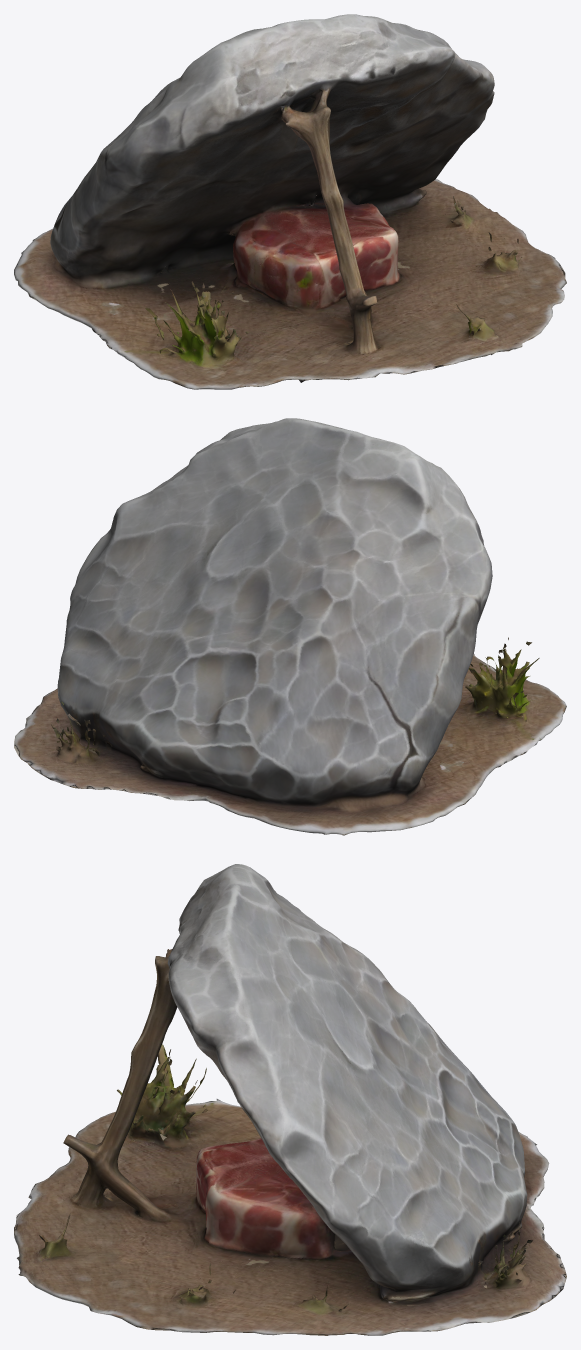
The model's file is Deadfall Trap Base Model.fbx.
The picture shows the model from 3 angles, top to bottom: view 1: azimuth 30°, elevation 25°; view 2: azimuth 150°, elevation 25°; view 3: azimuth 270°, elevation 25°; orthographic projection. The views are drawn at different scales.
Parts seen in each view (by area): view 1: Mesh_0; view 2: Mesh_0; view 3: Mesh_0.
Part boxes in pixels (<box>): Mesh_0: <box>14,14,566,389</box>; Mesh_0: <box>14,418,566,835</box>; Mesh_0: <box>14,864,566,1335</box>.
Bounding box in the file's own units: 200 × 126 × 199.
1 material, 1 textured.
